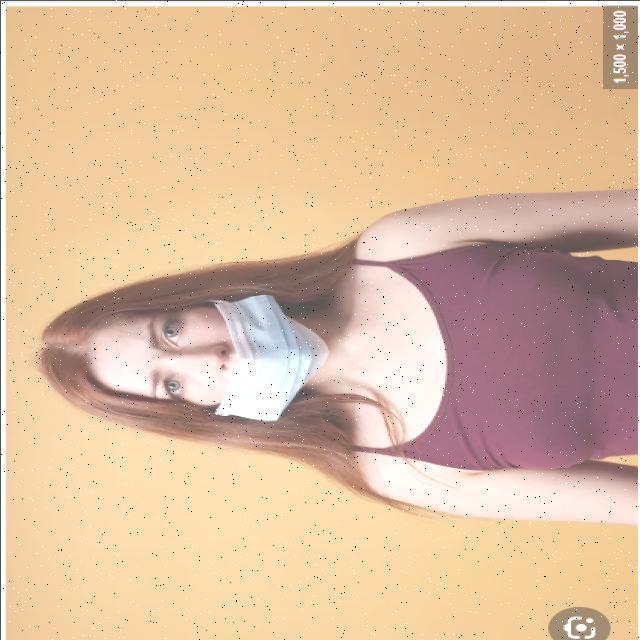face_half_mask: (73, 293, 317, 409)
